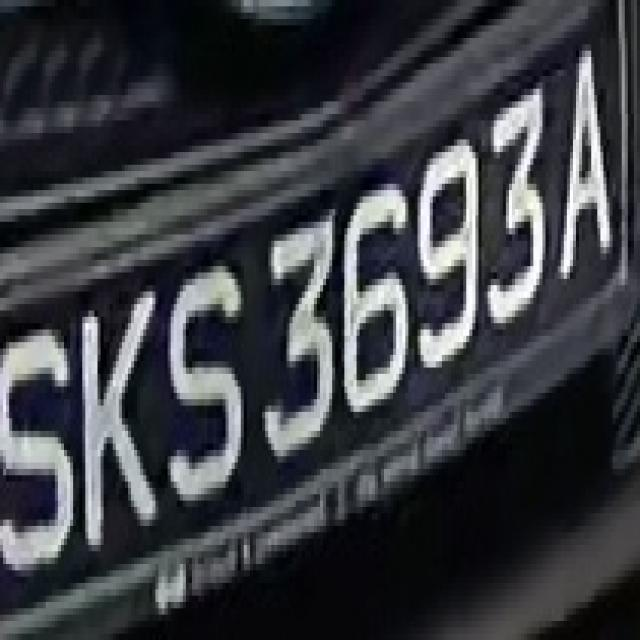3: (262, 202, 335, 462), (488, 57, 552, 330)
6: (338, 152, 408, 418)
9: (408, 133, 478, 393)
A: (552, 25, 624, 292)
K: (70, 273, 171, 552)
S: (152, 247, 250, 513), (6, 298, 73, 596)
